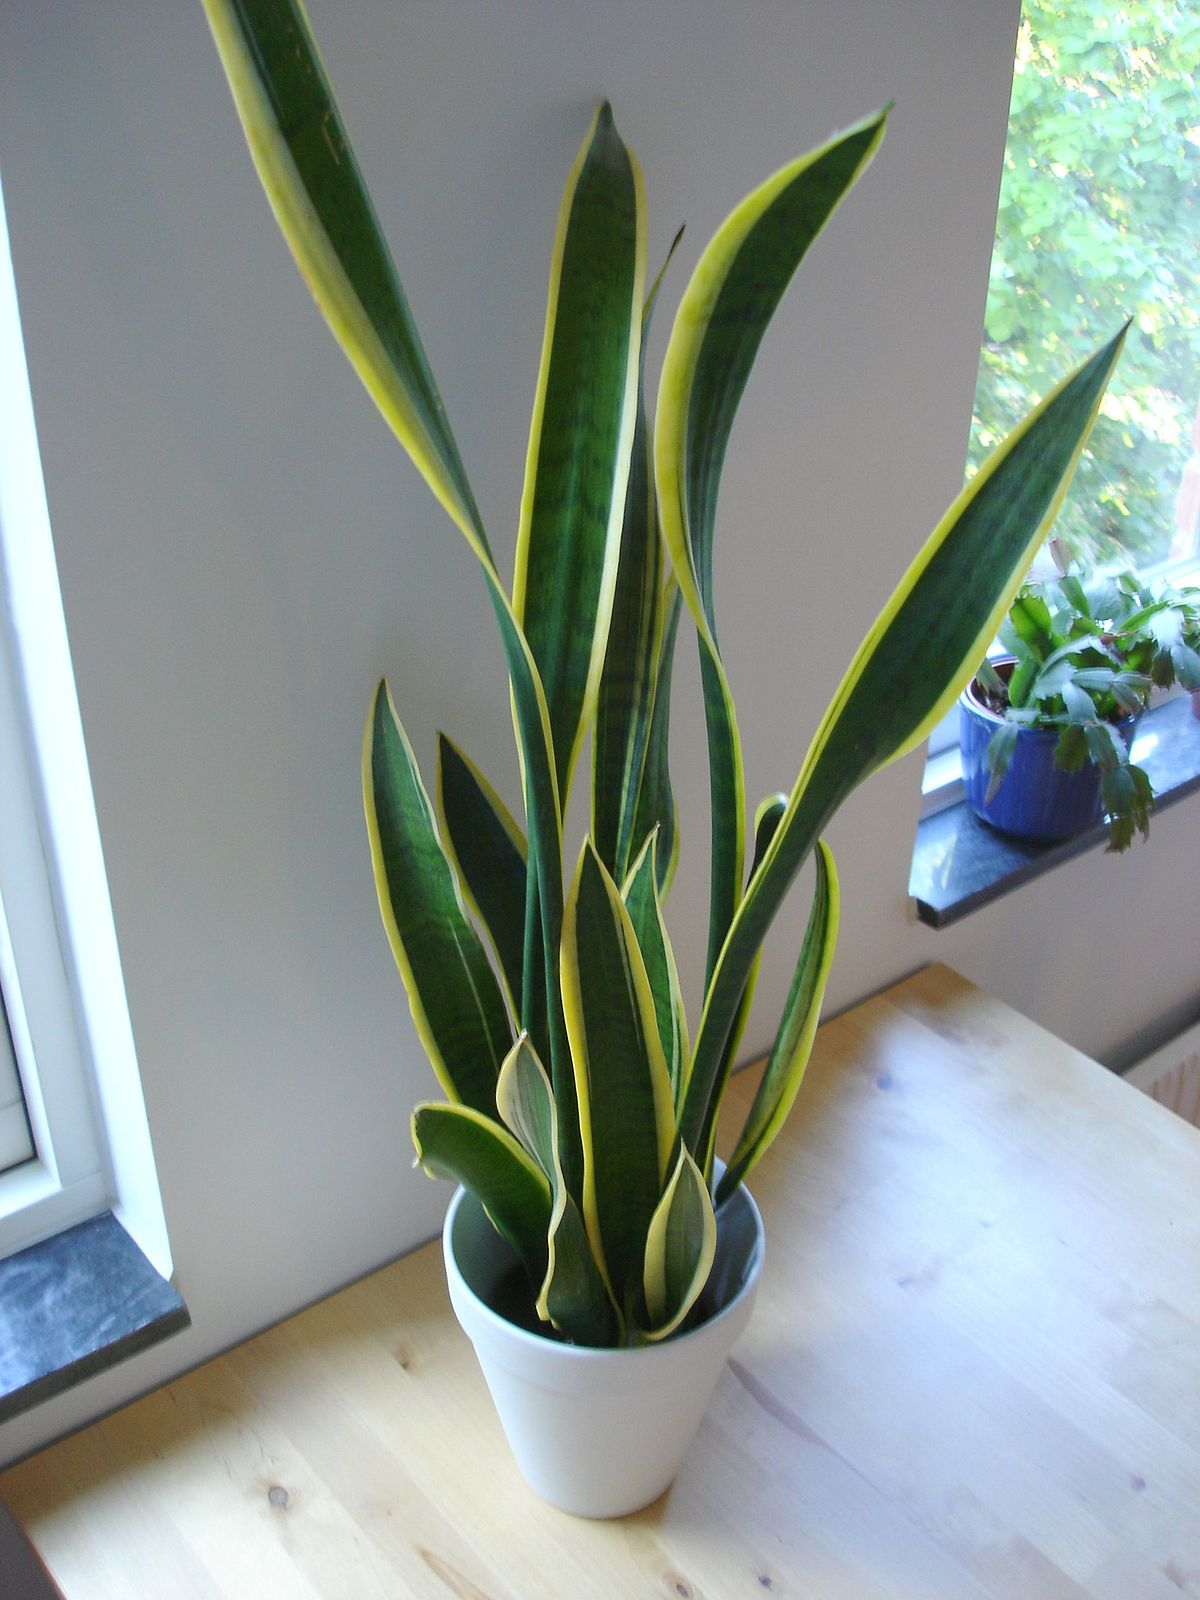plant: (153, 1, 1146, 1538), (933, 527, 1200, 893)
